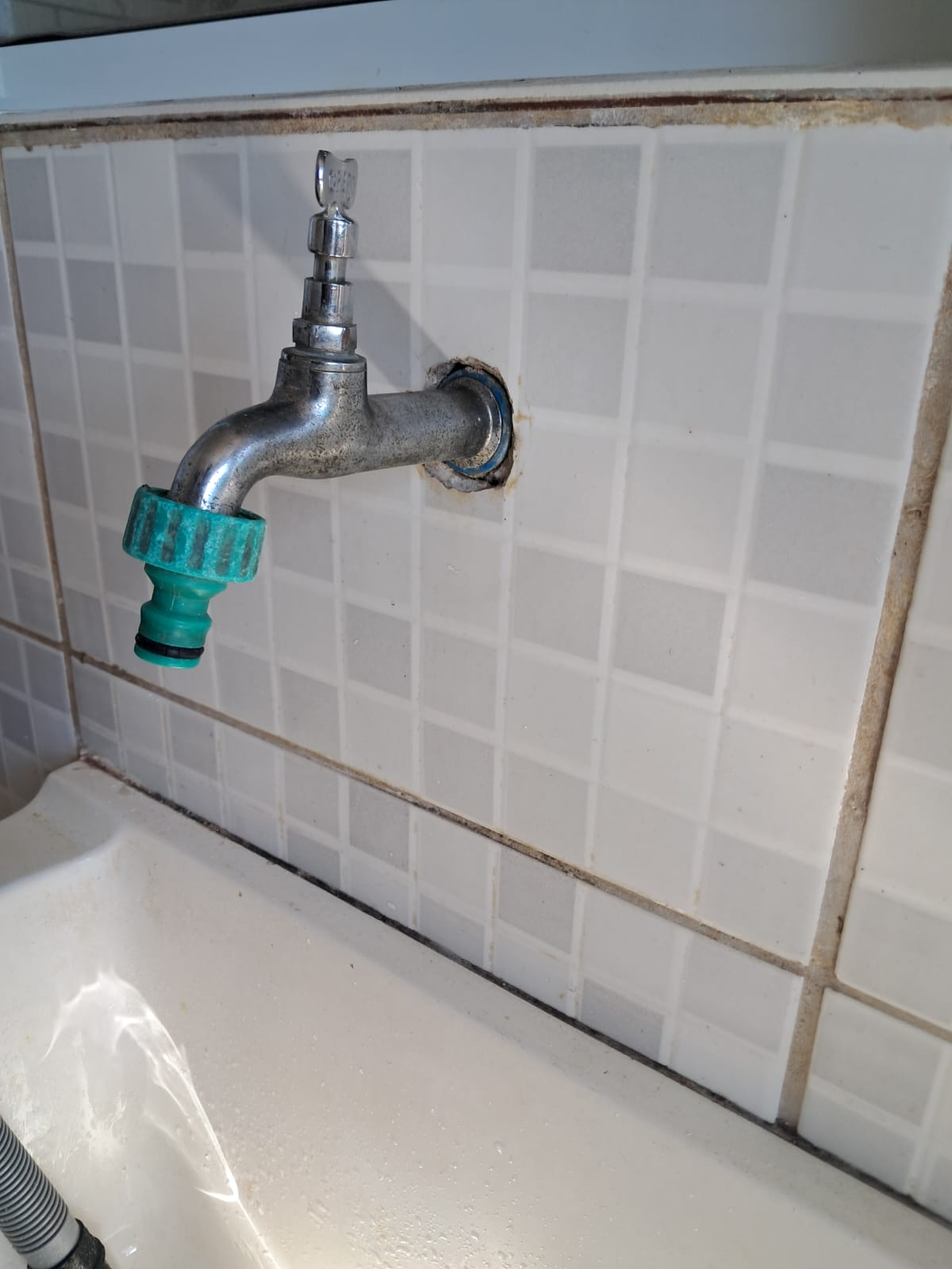torneira_fechada: (32, 125, 564, 700)
